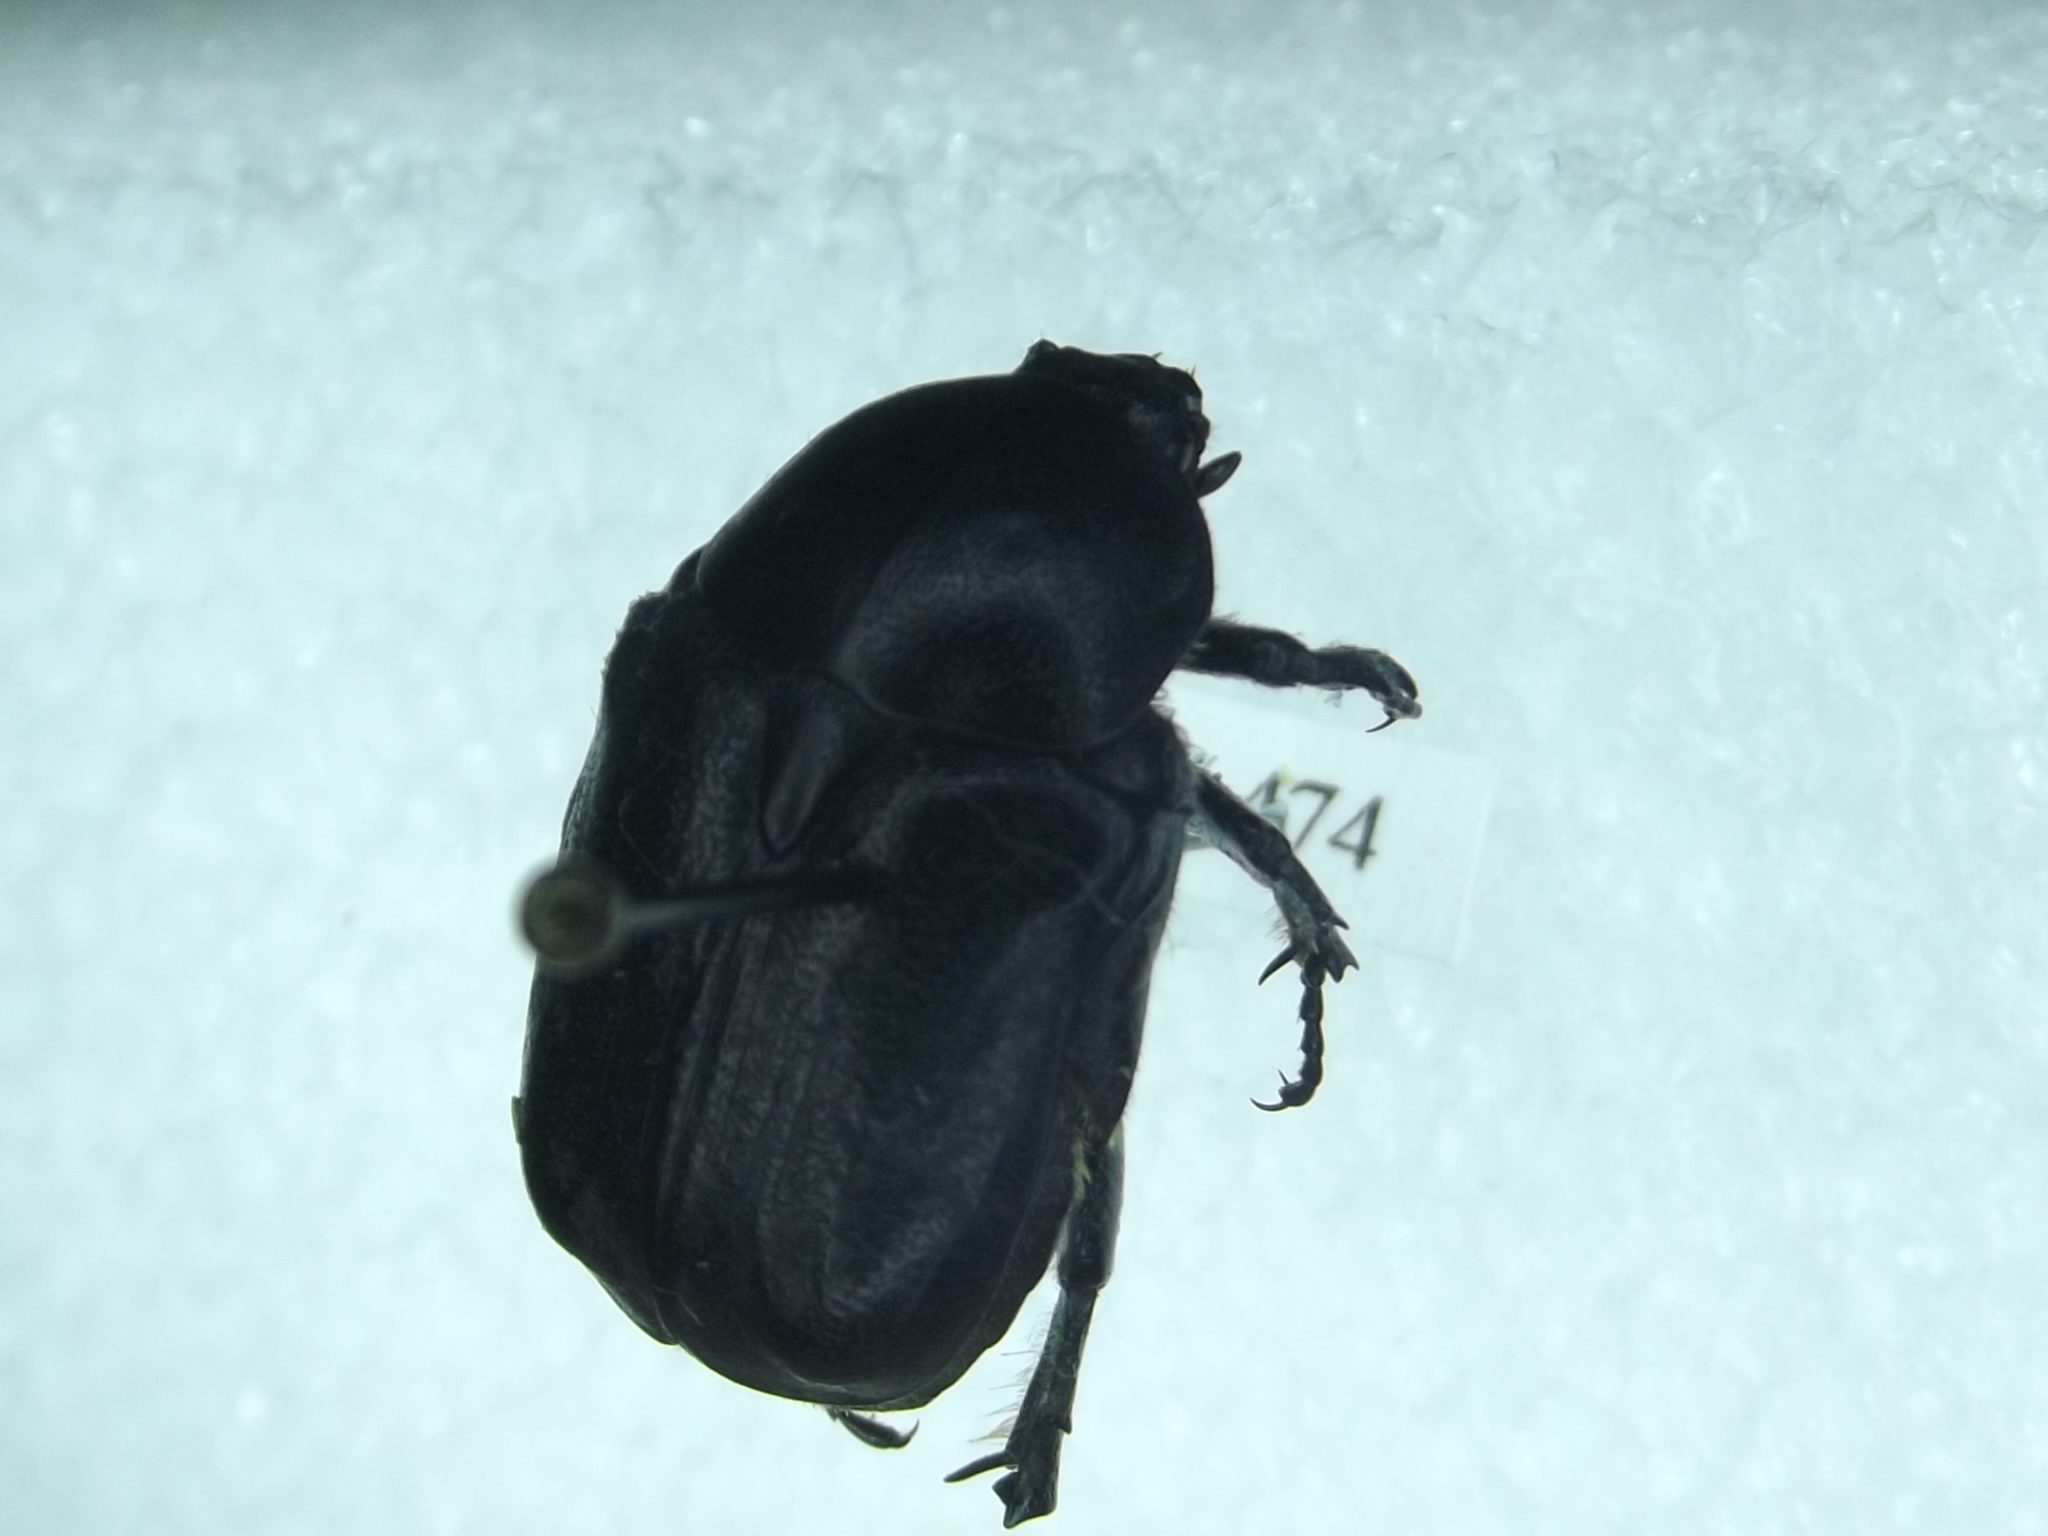Protaetia_vidua: (490, 298, 1448, 1536)
